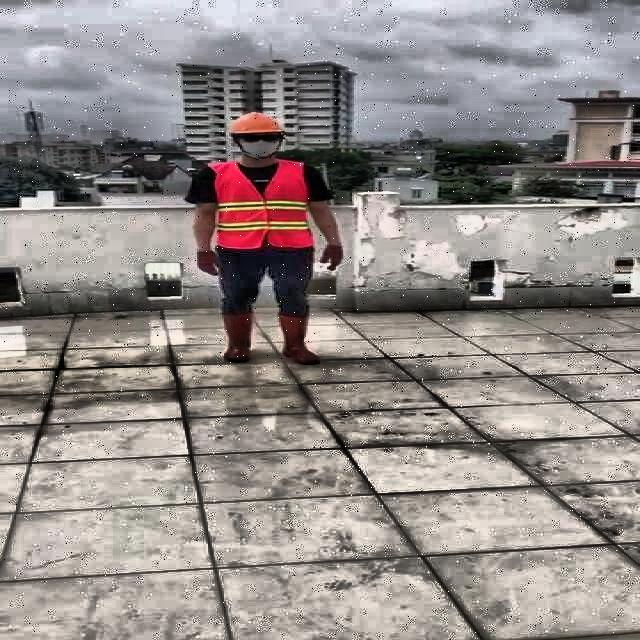safety_helmet: (181, 110, 356, 366), (220, 110, 286, 134)
safety_jacket: (211, 160, 313, 250)
